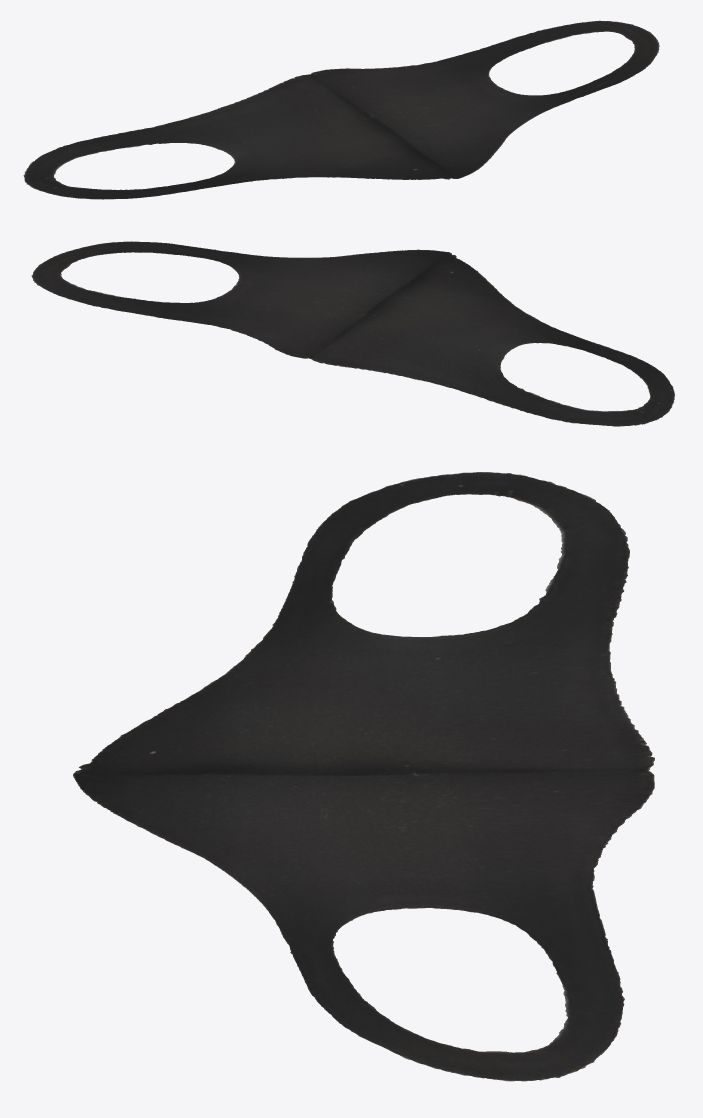
File: pblackmask.fbx
3 views of the same model, one above another, from view 1: azimuth 30°, elevation 25°; view 2: azimuth 150°, elevation 25°; view 3: azimuth 270°, elevation 25° (orthographic). The views are drawn at different scales.
Parts seen in each view (by area): view 1: pblackmask; view 2: pblackmask; view 3: pblackmask.
Boxes of the visible parts, x1,y1,x2,y2 form: pblackmask: [23, 20, 659, 199]; pblackmask: [31, 241, 674, 426]; pblackmask: [73, 472, 654, 1081].
Size of the model in its own units: 20.06 by 0.2466 by 8.05.
